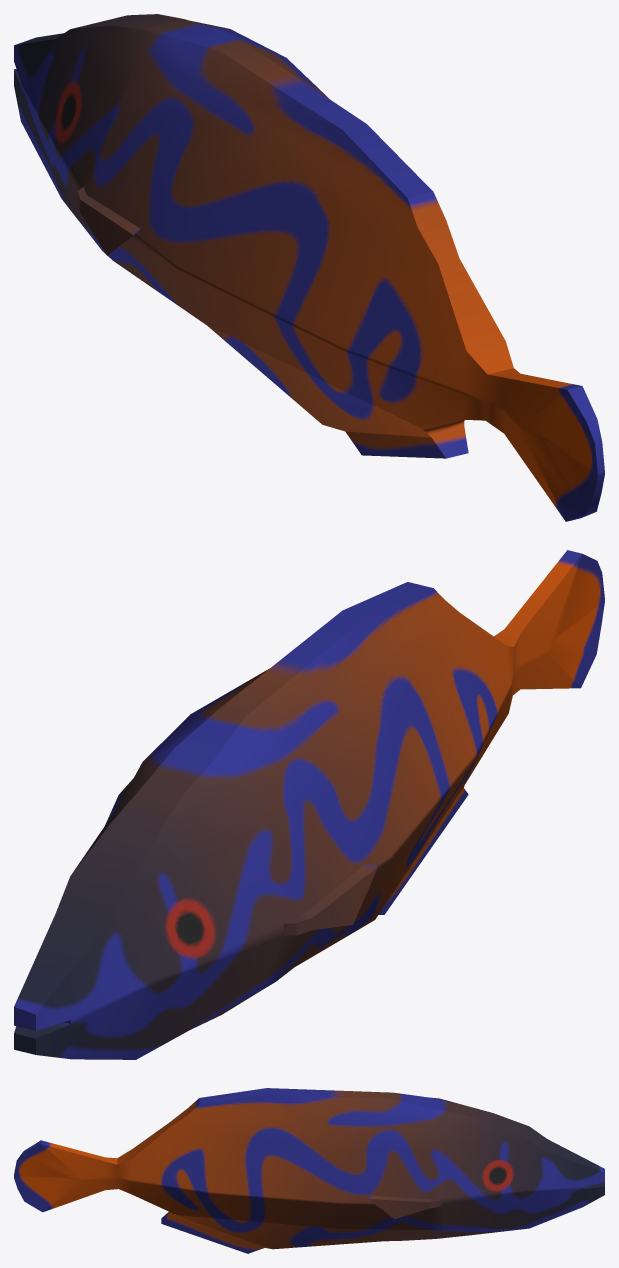
Rendered from vieilleCoquette.fbx.
3 renders of one model, top to bottom at view 1: azimuth 30°, elevation 25°; view 2: azimuth 150°, elevation 25°; view 3: azimuth 270°, elevation 25°, orthographic. The views are drawn at different scales.
Parts seen in each view (by area): view 1: VieilleCoquette; view 2: VieilleCoquette; view 3: VieilleCoquette.
Boxes of the visible parts, x1=… form: VieilleCoquette: x1=14, y1=14, x2=604, y2=521; VieilleCoquette: x1=14, y1=550, x2=604, y2=1059; VieilleCoquette: x1=14, y1=1088, x2=604, y2=1253.
Size of the model in its own units: 0.1822 by 0.221 by 0.7399.
